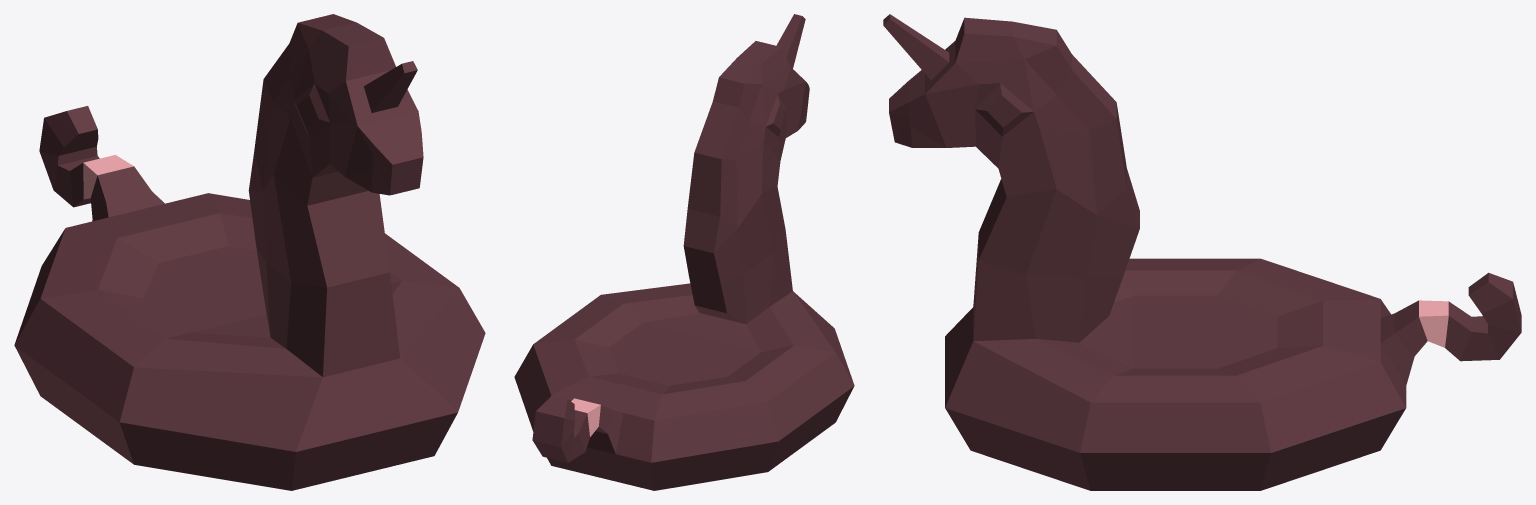
The model's file is inflatable-unicorn-big.fbx.
The picture shows the model from 3 angles, left to right: view 1: azimuth 30°, elevation 25°; view 2: azimuth 150°, elevation 25°; view 3: azimuth 270°, elevation 25°; orthographic projection. The views are drawn at different scales.
Parts seen in each view (by area): view 1: inflatable-unicorn-big; view 2: inflatable-unicorn-big; view 3: inflatable-unicorn-big.
Boxes of the visible parts, x1,y1,x2,y2 form: inflatable-unicorn-big: (14, 14, 485, 490); inflatable-unicorn-big: (514, 14, 854, 490); inflatable-unicorn-big: (883, 14, 1521, 490).
Bounding box in the file's own units: 1.66 × 1.98 × 2.76.
